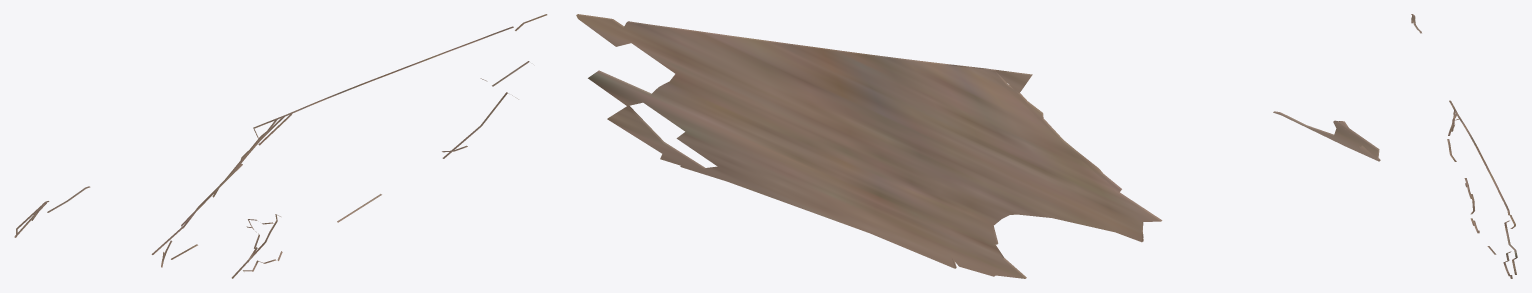
3 renders of one model, left to right at view 1: azimuth 30°, elevation 25°; view 2: azimuth 150°, elevation 25°; view 3: azimuth 270°, elevation 25°, orthographic. The views are drawn at different scales.
Bounding box in the file's own units: 10.8 × 2.74 × 2.24.
Materials: 1 (1 with a texture image).
